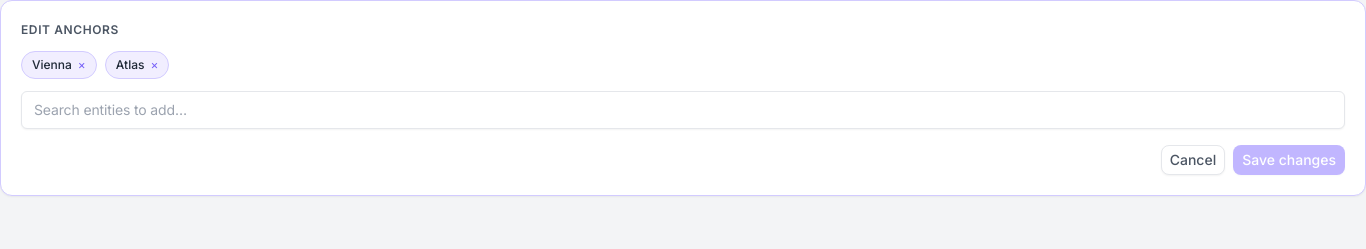
Scenario: StorylineAnchorEditor › removing a current anchor shows it in the removed diff
The width and height of the screenshot is (1366, 249).
Click the button with test id "anchor-editor-remove-514": click(154, 65) x1=150 y1=59 x2=158 y2=71
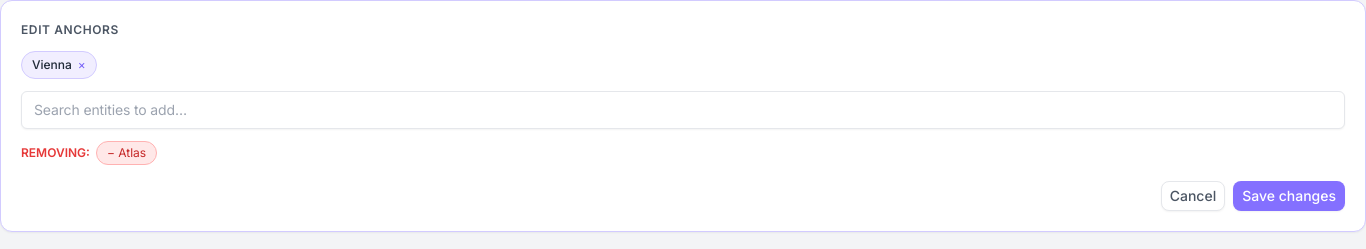
Check: the element with test id "anchor-diff-removed" shows "Atlas", box x1=107 y1=145 x2=146 y2=160
